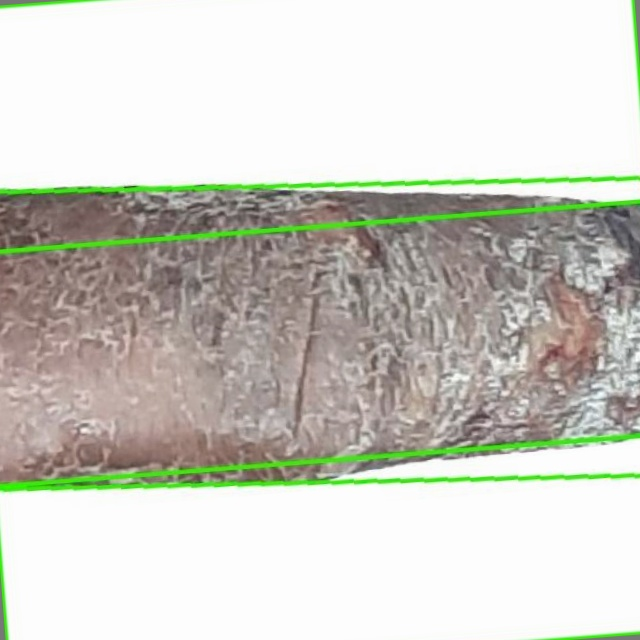Eczema: (0, 177, 639, 489), (0, 0, 639, 251), (0, 436, 639, 639)
